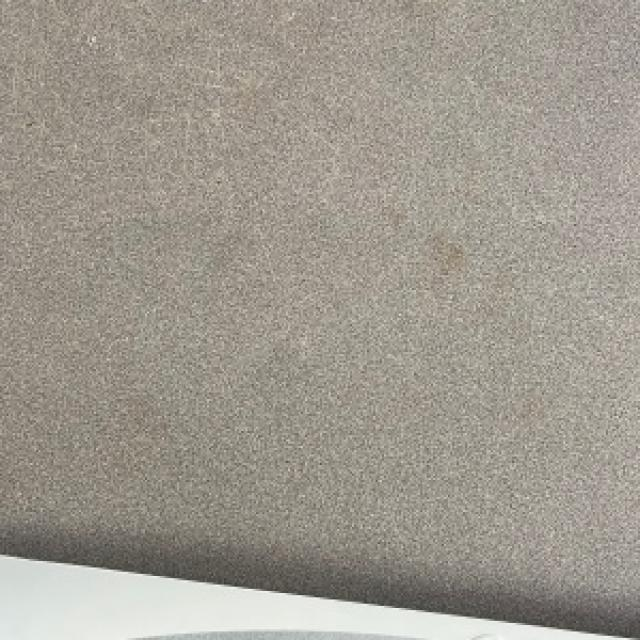healthy: (0, 0, 638, 634), (0, 555, 627, 638)
